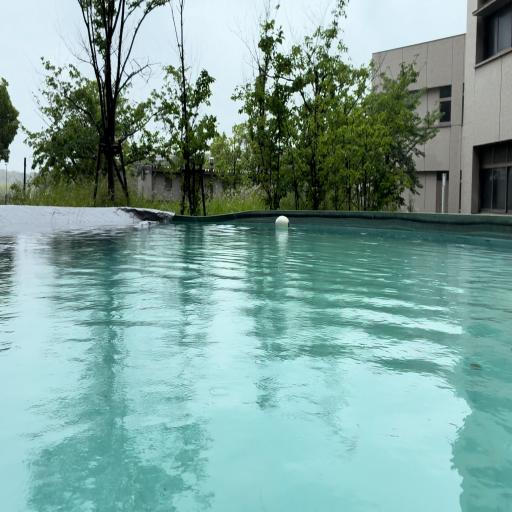white buoy: (275, 216, 290, 230)
